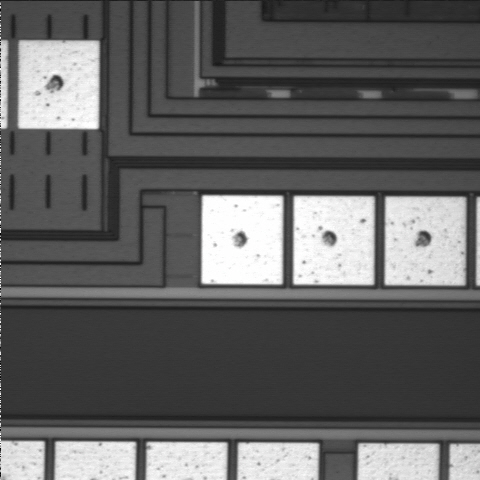pad: (201, 195, 283, 284), (293, 196, 374, 285), (18, 41, 99, 129), (385, 197, 466, 285)
